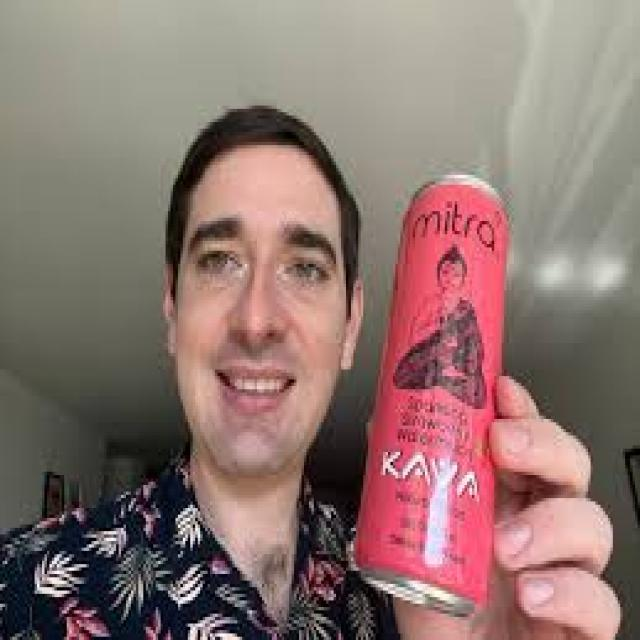Cans: (351, 142, 516, 614)
